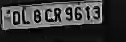1: (82, 4, 92, 24)
3: (92, 5, 100, 21)
6: (73, 6, 82, 23)
9: (64, 5, 73, 24)
B: (31, 8, 43, 25)
C: (43, 7, 53, 23)
D: (11, 9, 21, 27)
L: (20, 7, 32, 28)
R: (52, 5, 63, 27)
